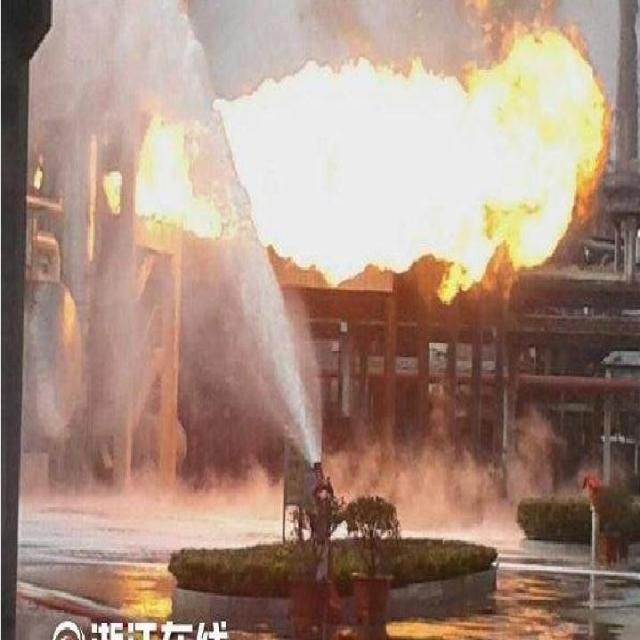Fire: (103, 0, 608, 289)
Smoke: (51, 410, 563, 517)
